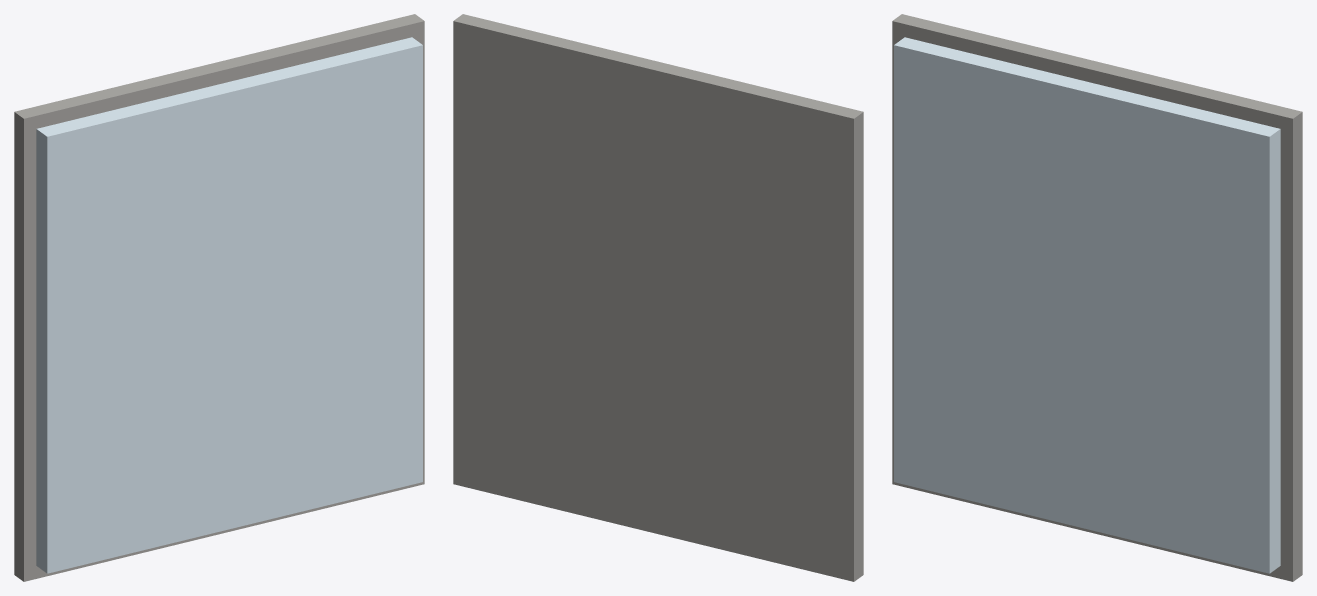
The model's file is built-reflective-panel.glb.
3 views of the same model, side by side, from view 1: azimuth 30°, elevation 25°; view 2: azimuth 150°, elevation 25°; view 3: azimuth 330°, elevation 25° (orthographic).
Parts seen in each view (by area): view 1: built-reflective-panel; view 2: built-reflective-panel; view 3: built-reflective-panel.
Boxes of the visible parts, left/top/right/bottom form: built-reflective-panel: left=14, top=14, right=424, bottom=581; built-reflective-panel: left=453, top=14, right=863, bottom=581; built-reflective-panel: left=892, top=14, right=1302, bottom=581.
Size of the model in its own units: 0.96 by 1.06 by 0.085.
